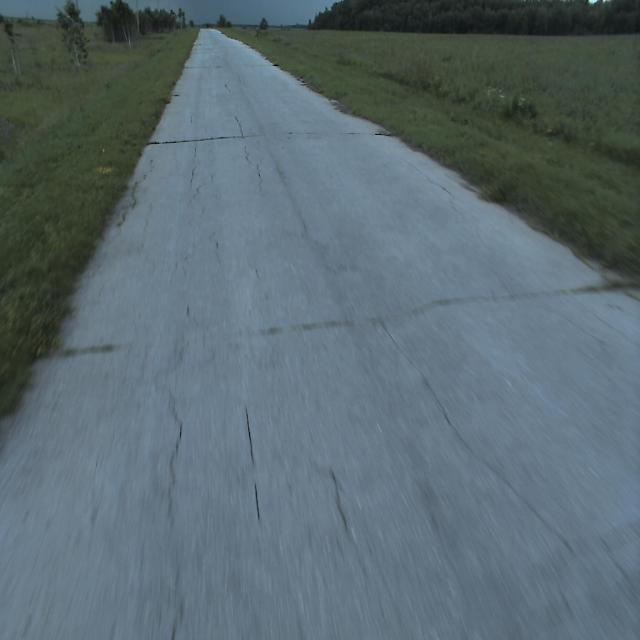road: (0, 28, 640, 639)
